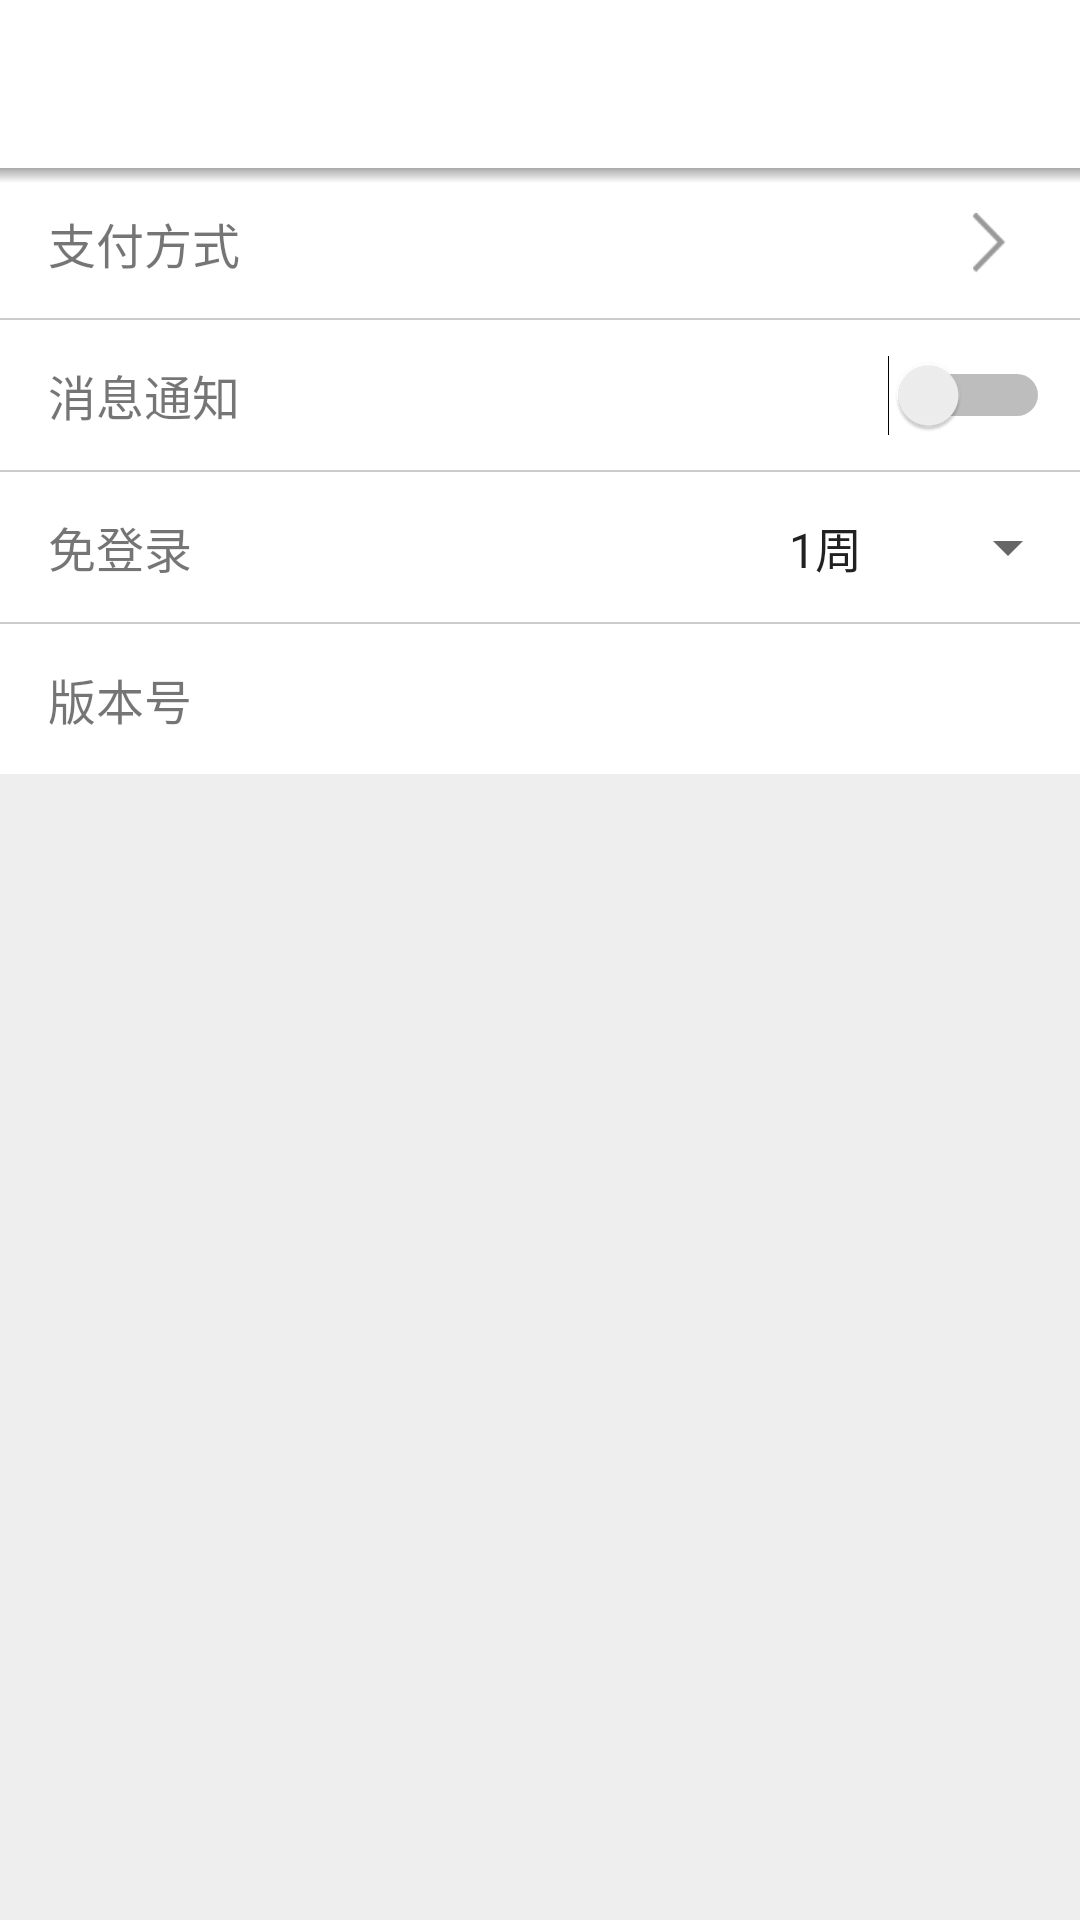

Locate icon controls on the screen. Image size 1080 x 1920, boxes as rect(x1, y1, x2, y2).
more: rect(973, 213, 1005, 272)
